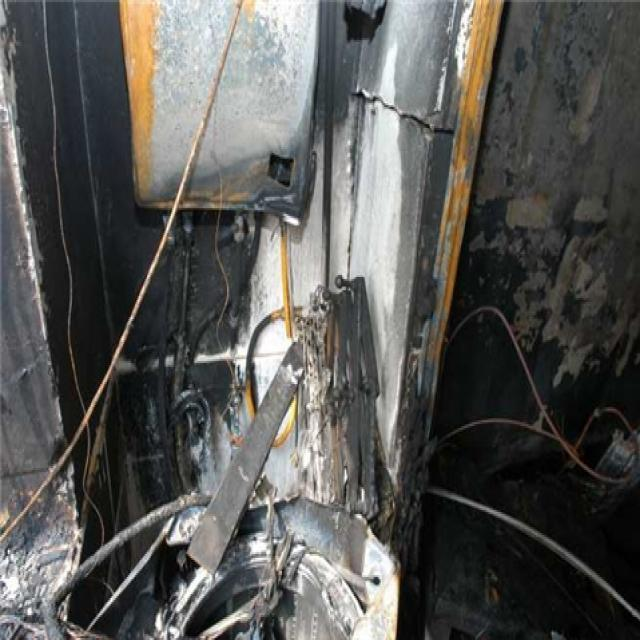Boiler: (97, 0, 367, 262)
